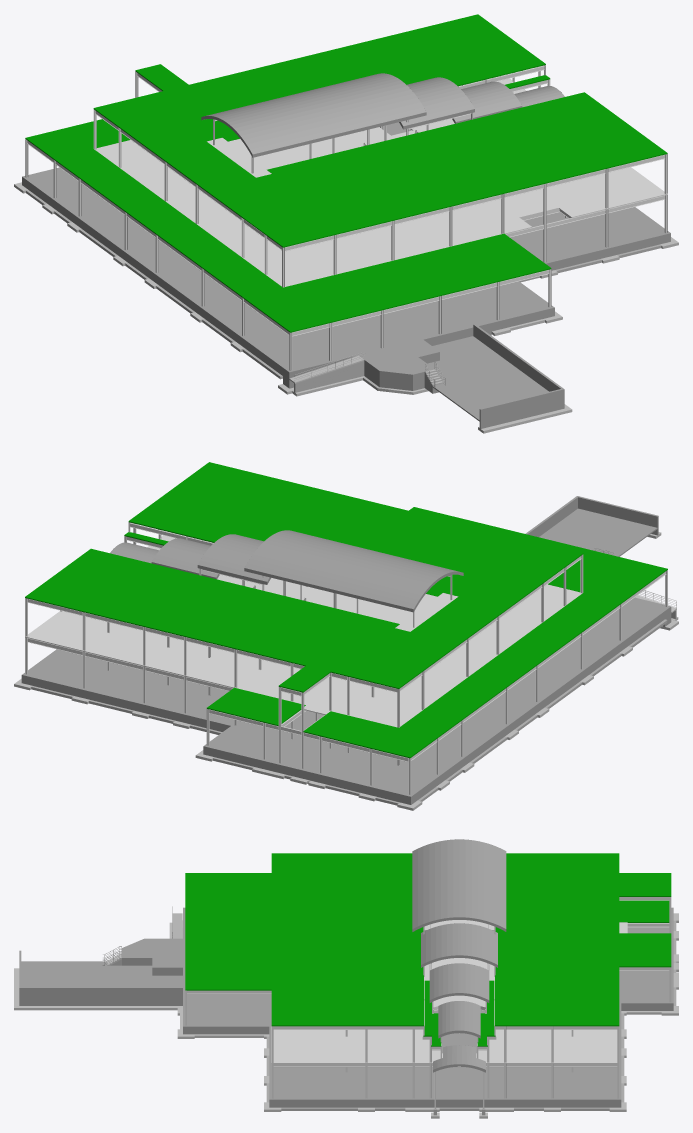
3 renders of one model, top to bottom at view 1: azimuth 30°, elevation 25°; view 2: azimuth 150°, elevation 25°; view 3: azimuth 270°, elevation 25°, orthographic. The views are drawn at different scales.
Parts seen in each view (by area): view 1: 22_kIllv127wWuzeSbBoPm, 2oJ$jhEMn3nhAqn0NbtYKu, 2XnCNfbvb5mfgxvK1MPFfM, 3yX498NoH6cAogvPd4Mk$Y, 0rgLSgKBf54Qc3od1vyY2Z, 1lGrrtZObD3BCuxBCd$E_H, 30URw5qYD7VfcU$zAl5afl, 0rgLSgKBf54Qc3od1vyYy9, 2lH_RQeBDBG8rH6PWO_5fC, 31f4fEYc5F6fw4dve_O20g, 0EBxs8wY934BfjQnQnJP9Z, 0rgLSgKBf54Qc3od1vyYzb (+7 smaller); view 2: 22_kIllv127wWuzeSbBoPm, 2XnCNfbvb5mfgxvK1MPFfM, 3yX498NoH6cAogvPd4Mk$Y, 2oJ$jhEMn3nhAqn0NbtYKu, 0rgLSgKBf54Qc3od1vyY2Z, 1lGrrtZObD3BCuxBCd$E_H, 30URw5qYD7VfcU$zAl5afl, 3saVcraO9CJRqkF0xoe8dT, 3saVcraO9CJRqkF0xoe8zy, 0rgLSgKBf54Qc3od1vyYy9, 0VsgkmPnbAuO2d6$Acv6Id, 0EBxs8wY934BfjQnQnJP9Z (+6 smaller); view 3: 22_kIllv127wWuzeSbBoPm, 2XnCNfbvb5mfgxvK1MPFfM, 2oJ$jhEMn3nhAqn0NbtYKu, 3yX498NoH6cAogvPd4Mk$Y, 0rgLSgKBf54Qc3od1vyY2Z, 1lGrrtZObD3BCuxBCd$E_H, 3saVcraO9CJRqkF0xoe8_j, 31f4fEYc5F6fw4dve_O27F, 0rgLSgKBf54Qc3od1vyYy9, 0rgLSgKBf54Qc3od1vyYzb, 0VsgkmPnbAuO2d6$Acv6Id, 2lH_RQeBDBG8rH6PWO_5fC (+7 smaller).
Part boxes in pixels (box(x1,y1,x2,y2)): 22_kIllv127wWuzeSbBoPm: box(93, 14, 667, 247); 2oJ$jhEMn3nhAqn0NbtYKu: box(25, 119, 551, 332); 2XnCNfbvb5mfgxvK1MPFfM: box(26, 122, 667, 370); 3yX498NoH6cAogvPd4Mk$Y: box(94, 75, 667, 287); 0rgLSgKBf54Qc3od1vyY2Z: box(201, 73, 426, 157); 1lGrrtZObD3BCuxBCd$E_H: box(427, 336, 548, 421); 30URw5qYD7VfcU$zAl5afl: box(22, 176, 284, 375); 0rgLSgKBf54Qc3od1vyYy9: box(399, 77, 474, 129); 2lH_RQeBDBG8rH6PWO_5fC: box(359, 339, 439, 375); 31f4fEYc5F6fw4dve_O20g: box(479, 389, 562, 428); 0EBxs8wY934BfjQnQnJP9Z: box(207, 137, 309, 177); 0rgLSgKBf54Qc3od1vyYzb: box(452, 81, 522, 123); 22_kIllv127wWuzeSbBoPm: box(25, 462, 583, 692); 2XnCNfbvb5mfgxvK1MPFfM: box(25, 598, 666, 795); 3yX498NoH6cAogvPd4Mk$Y: box(25, 532, 581, 727); 2oJ$jhEMn3nhAqn0NbtYKu: box(303, 507, 667, 758); 0rgLSgKBf54Qc3od1vyY2Z: box(244, 530, 463, 612); 1lGrrtZObD3BCuxBCd$E_H: box(539, 508, 657, 556); 30URw5qYD7VfcU$zAl5afl: box(409, 610, 664, 804); 3saVcraO9CJRqkF0xoe8dT: box(203, 745, 409, 804); 3saVcraO9CJRqkF0xoe8zy: box(21, 674, 231, 731); 0rgLSgKBf54Qc3od1vyYy9: box(197, 534, 270, 584); 0VsgkmPnbAuO2d6$Acv6Id: box(206, 687, 305, 726); 0EBxs8wY934BfjQnQnJP9Z: box(358, 593, 458, 631); 22_kIllv127wWuzeSbBoPm: box(271, 853, 671, 1026); 2XnCNfbvb5mfgxvK1MPFfM: box(185, 909, 669, 1098); 2oJ$jhEMn3nhAqn0NbtYKu: box(185, 873, 671, 990); 3yX498NoH6cAogvPd4Mk$Y: box(271, 920, 627, 1063); 0rgLSgKBf54Qc3od1vyY2Z: box(412, 839, 506, 931); 1lGrrtZObD3BCuxBCd$E_H: box(21, 961, 182, 987); 3saVcraO9CJRqkF0xoe8_j: box(269, 1098, 619, 1107); 31f4fEYc5F6fw4dve_O27F: box(19, 987, 182, 1005); 0rgLSgKBf54Qc3od1vyYy9: box(421, 923, 497, 967); 0rgLSgKBf54Qc3od1vyYzb: box(429, 963, 489, 1002); 0VsgkmPnbAuO2d6$Acv6Id: box(619, 933, 671, 967); 2lH_RQeBDBG8rH6PWO_5fC: box(122, 938, 182, 968).
Size of the model in its own units: 55.69 by 16.02 by 77.1.
